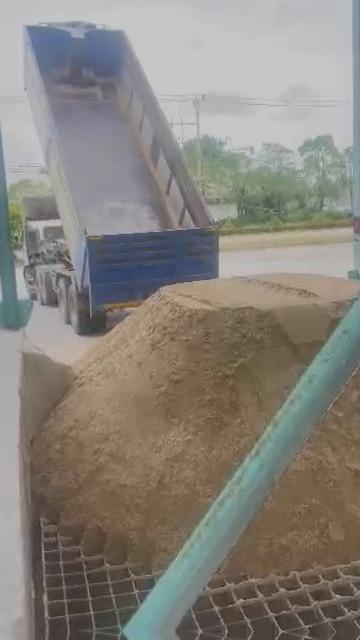sand: (33, 275, 360, 567), (225, 354, 360, 575), (20, 342, 73, 444)
